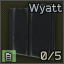Remington M700 .308 Wyatts Outdoor 5-round magazine: (0, 0, 64, 64)
